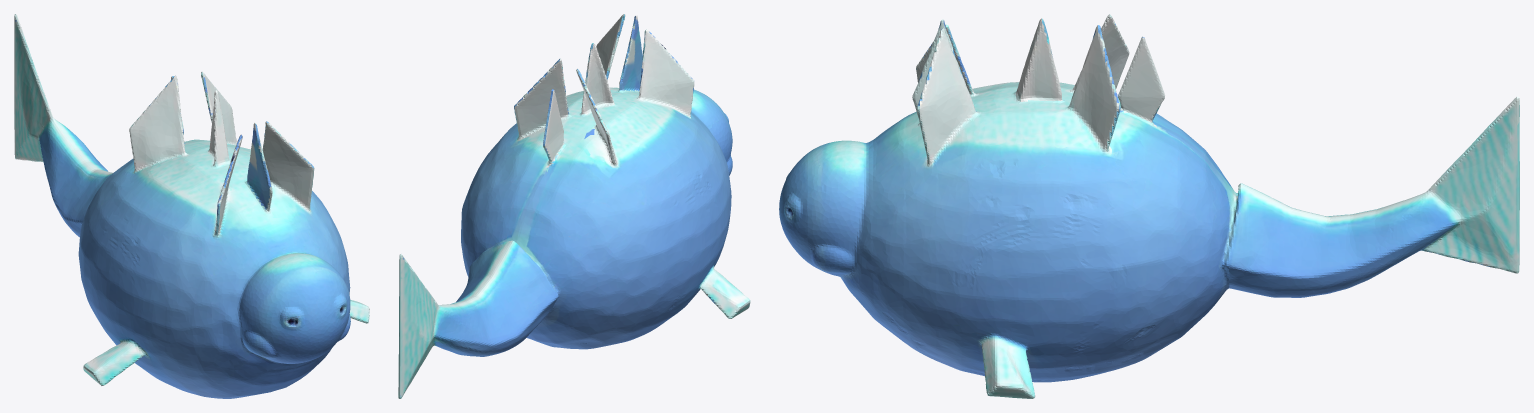
Rendered from creature-056.glb.
The picture shows the model from 3 angles, left to right: view 1: azimuth 30°, elevation 25°; view 2: azimuth 150°, elevation 25°; view 3: azimuth 270°, elevation 25°; orthographic projection. The views are drawn at different scales.
Visible parts, largest first — view 1: tmpkffj_f09.ply; view 2: tmpkffj_f09.ply; view 3: tmpkffj_f09.ply.
Part boxes in pixels (bbox=[...]): tmpkffj_f09.ply: bbox=[14, 14, 369, 398]; tmpkffj_f09.ply: bbox=[398, 14, 750, 398]; tmpkffj_f09.ply: bbox=[779, 14, 1519, 398].
Bounding box in the file's own units: 1.04 × 1.04 × 1.99.
Materials: 1 (1 with a texture image).
